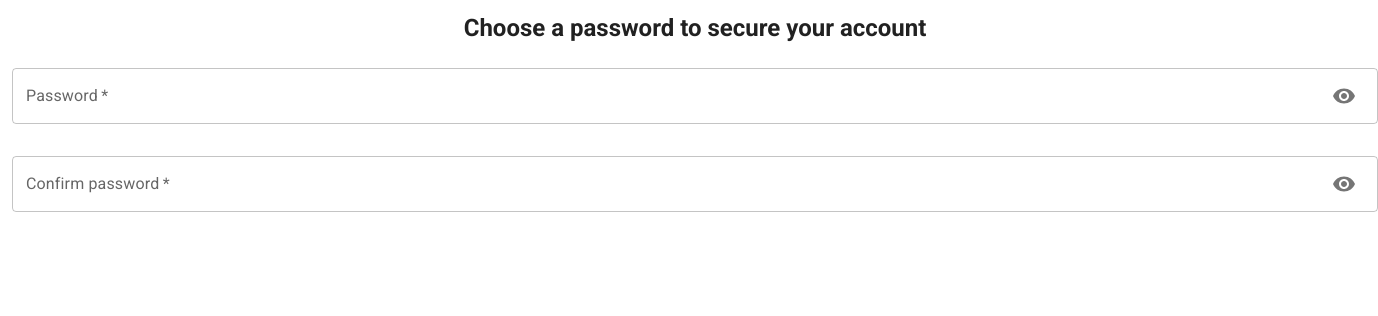
AccountSecurityStep › should show an error if password is missing lowercase letter
This screenshot has width=1378, height=316.
Type "JOHN123!" into the password field labelled "Password *".
click(664, 96); type("JOHN123!")  # box [12,68,1316,124]
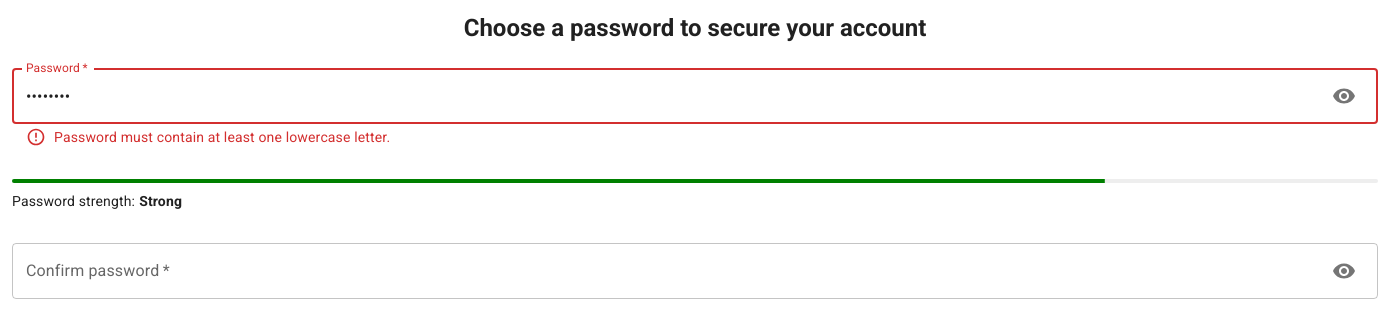
Now the message shows "lowercase", box [54,129,390,145]
